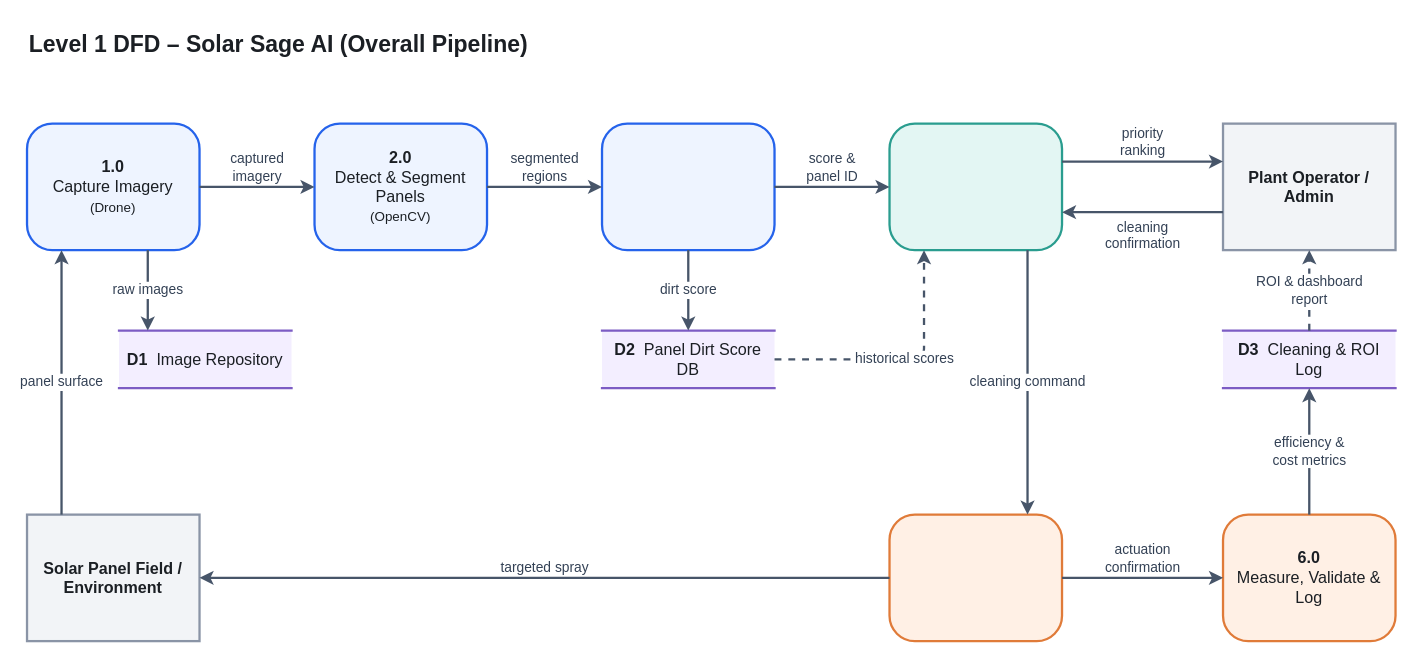
Some shapes in this 1416 by 661 pixel diagram are drawn without their labels. The box of each missing label's shape, as (x1, y1, x2, y2) in pixels:
3.0 Classify & Score Dirt (AI Decision Layer): (600, 122, 775, 251)
4.0 Rank & Decide Cleaning (Multi-Agent Backend) [see Level 2]: (888, 122, 1063, 251)
5.0 Execute Targeted Cleaning (ESP32 Servo/Pump): (888, 513, 1063, 642)
